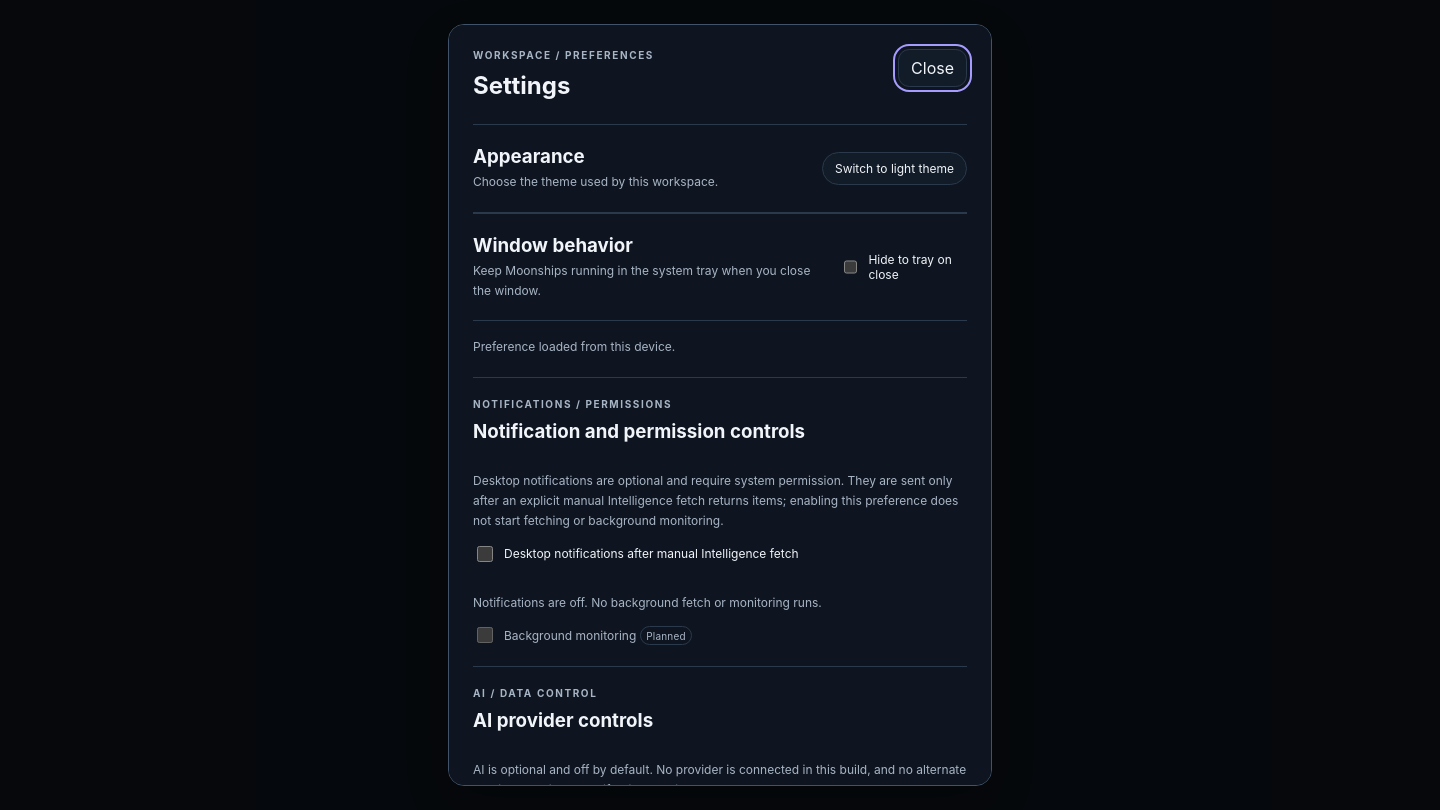
it: M5-014 explicit desktop notification preference › keeps the setting off when system permission is denied
This screenshot has width=1440, height=810.
Step 1. Click the checkbox labelled "Desktop notifications after manual Intelligence fetch" → [485, 554], box x1=477 y1=546 x2=493 y2=562
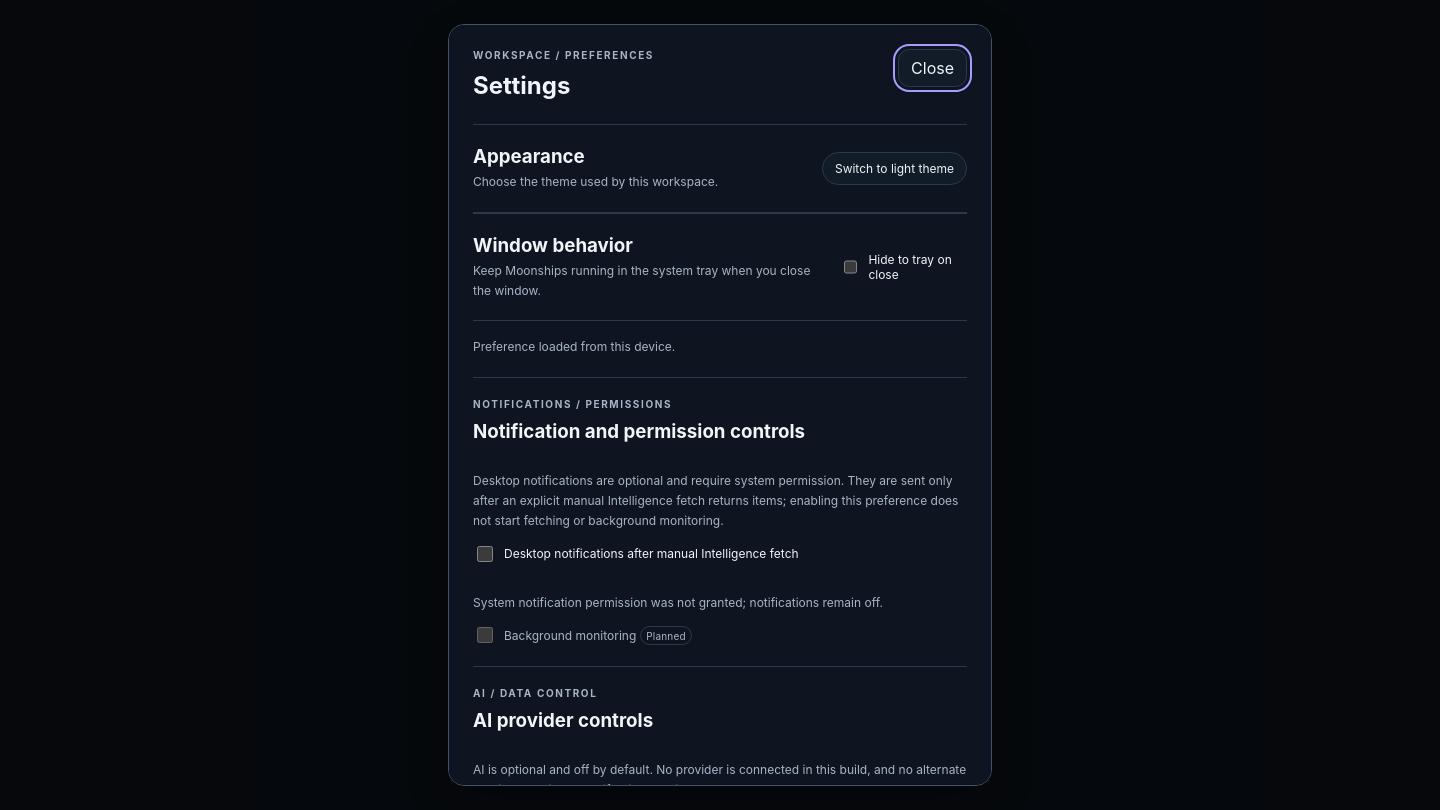
expect the text "System notification permission was not granted; notifications remain off." is shown: met, box x1=473 y1=595 x2=883 y2=610
